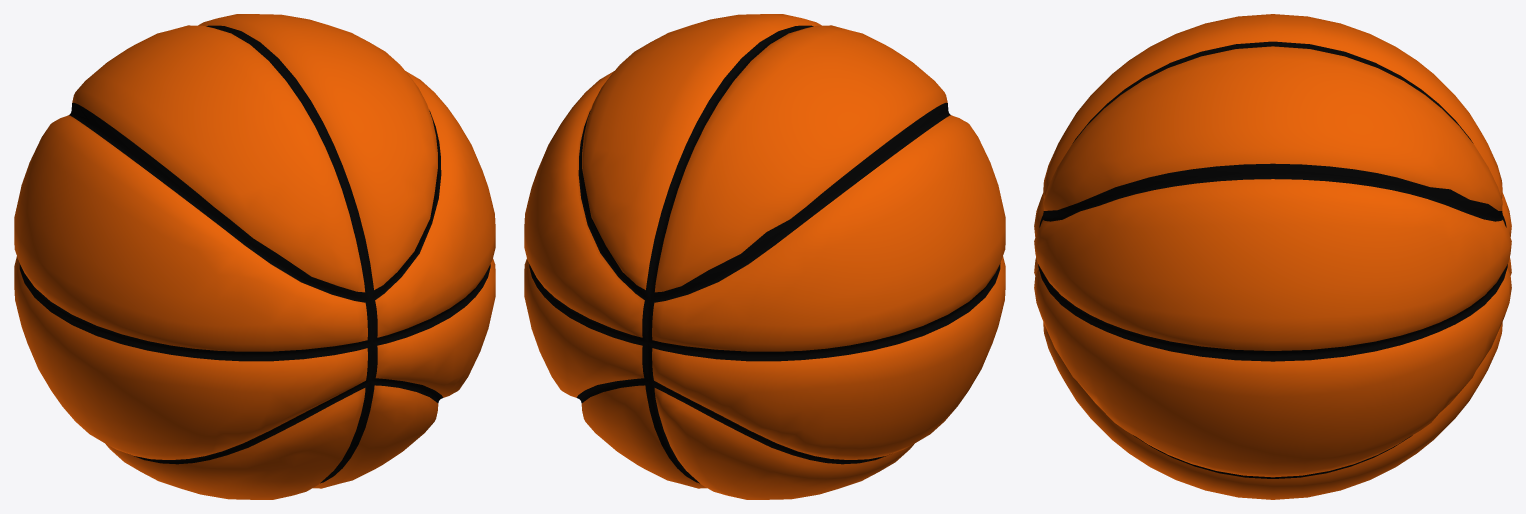
The model's file is Basketball.fbx.
3 renders of one model, left to right at view 1: azimuth 30°, elevation 25°; view 2: azimuth 150°, elevation 25°; view 3: azimuth 270°, elevation 25°, orthographic.
Parts seen in each view (by area): view 1: Cube; view 2: Cube; view 3: Cube.
Boxes of the visible parts, x1,y1,x2,y2 form: Cube: (14, 14, 495, 499); Cube: (524, 14, 1005, 499); Cube: (1034, 14, 1511, 499).
Size of the model in its own units: 125 by 125 by 125.
